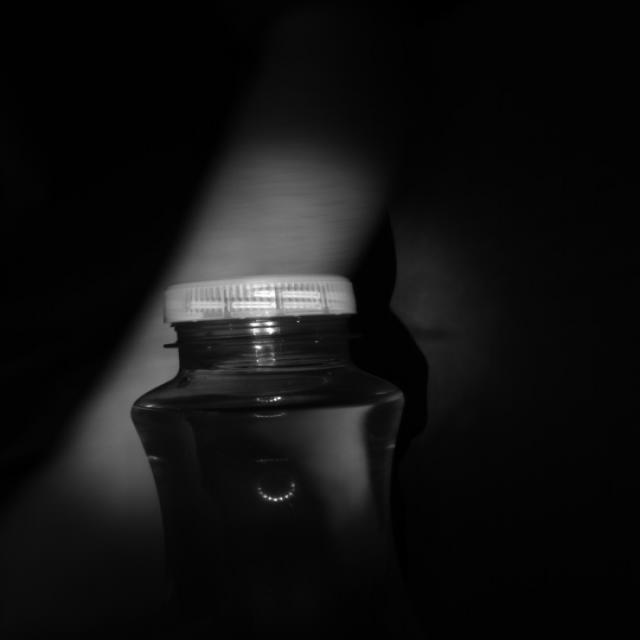Not Good: (163, 272, 358, 352)
